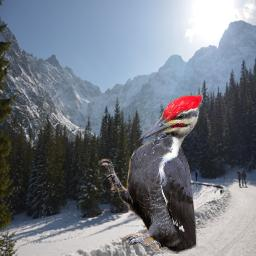Woodpecker: (98, 94, 202, 254)
